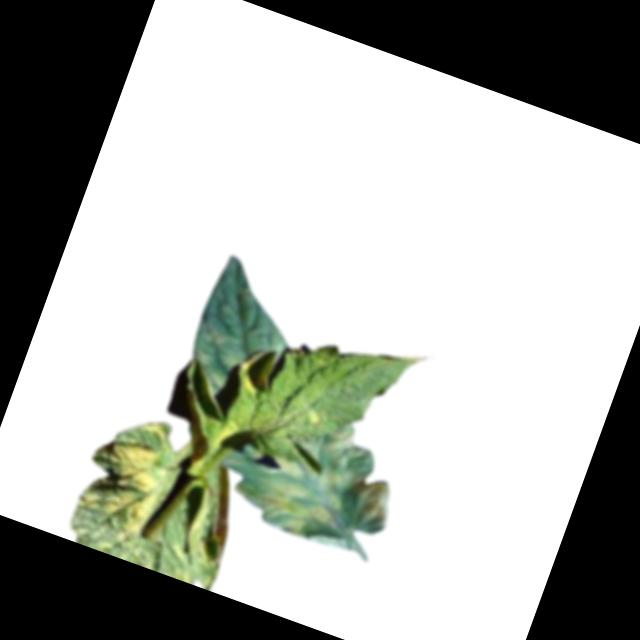Leaf_Mold: (226, 395, 416, 562), (75, 403, 188, 542), (178, 319, 250, 401), (234, 344, 281, 400)
